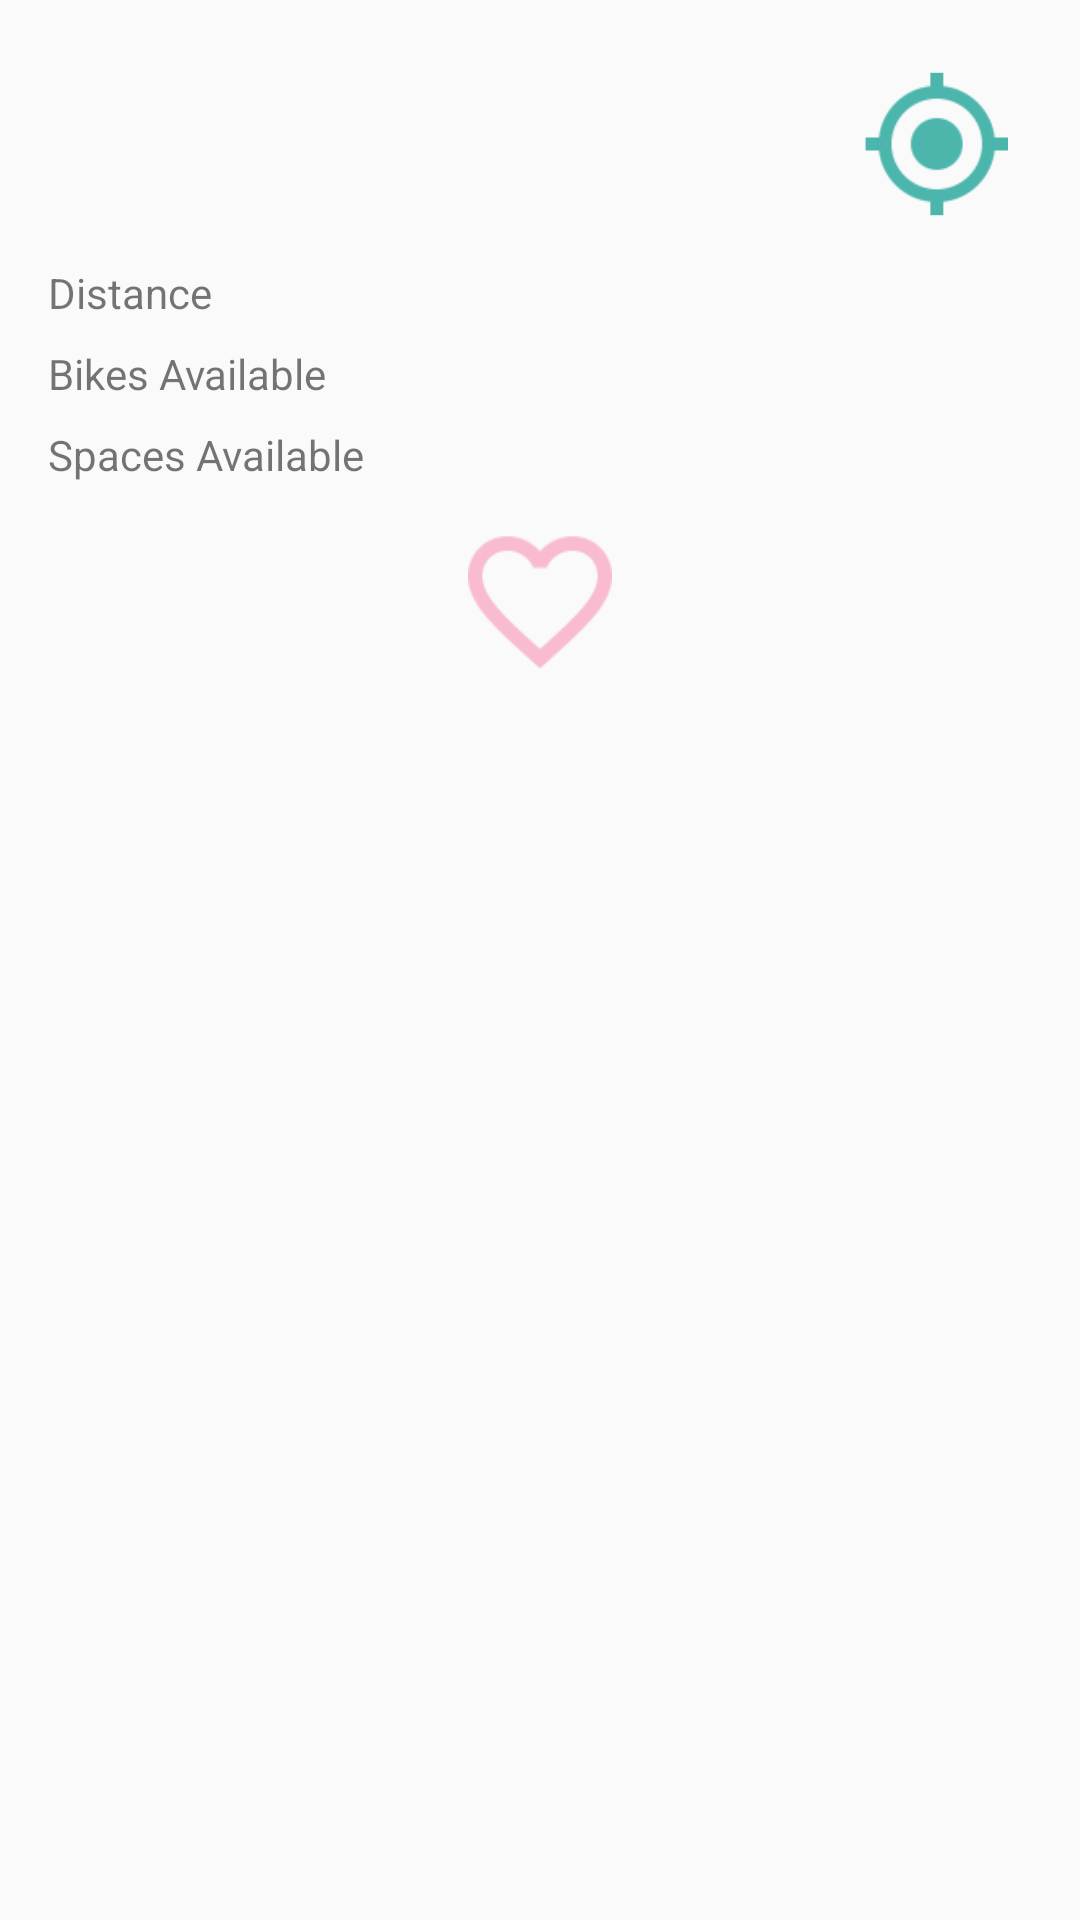

Icon click points for this 1080*1920 phone screenshot, format [x,y]:
favorite: [540,602]
location: [936,144]
